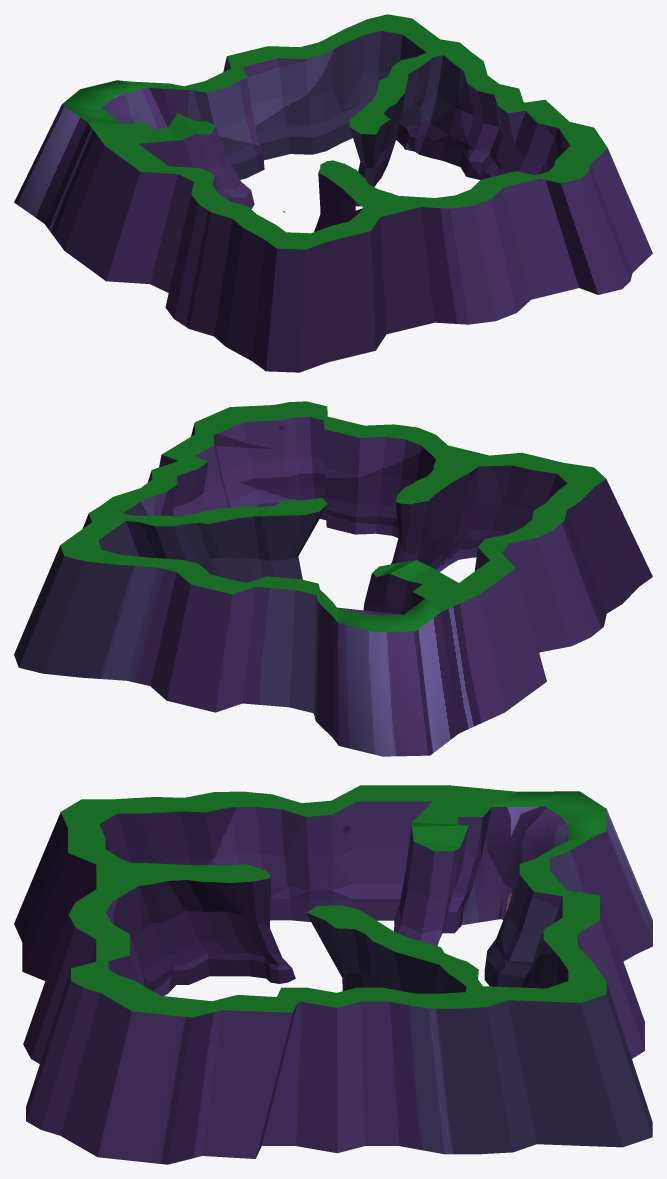
Rendered from Mapa Estacion Batalla.fbx.
3 renders of one model, top to bottom at view 1: azimuth 30°, elevation 25°; view 2: azimuth 150°, elevation 25°; view 3: azimuth 270°, elevation 25°, orthographic. The views are drawn at different scales.
Parts seen in each view (by area): view 1: Zona1Batalla; view 2: Zona1Batalla; view 3: Zona1Batalla.
Part boxes in pixels (x1,y1,x2,y2): Zona1Batalla: (14, 14, 652, 372); Zona1Batalla: (14, 401, 652, 756); Zona1Batalla: (14, 785, 652, 1164).
Size of the model in its own units: 58945 by 58508 by 13683.
Materials: 3 (2 with a texture image).
